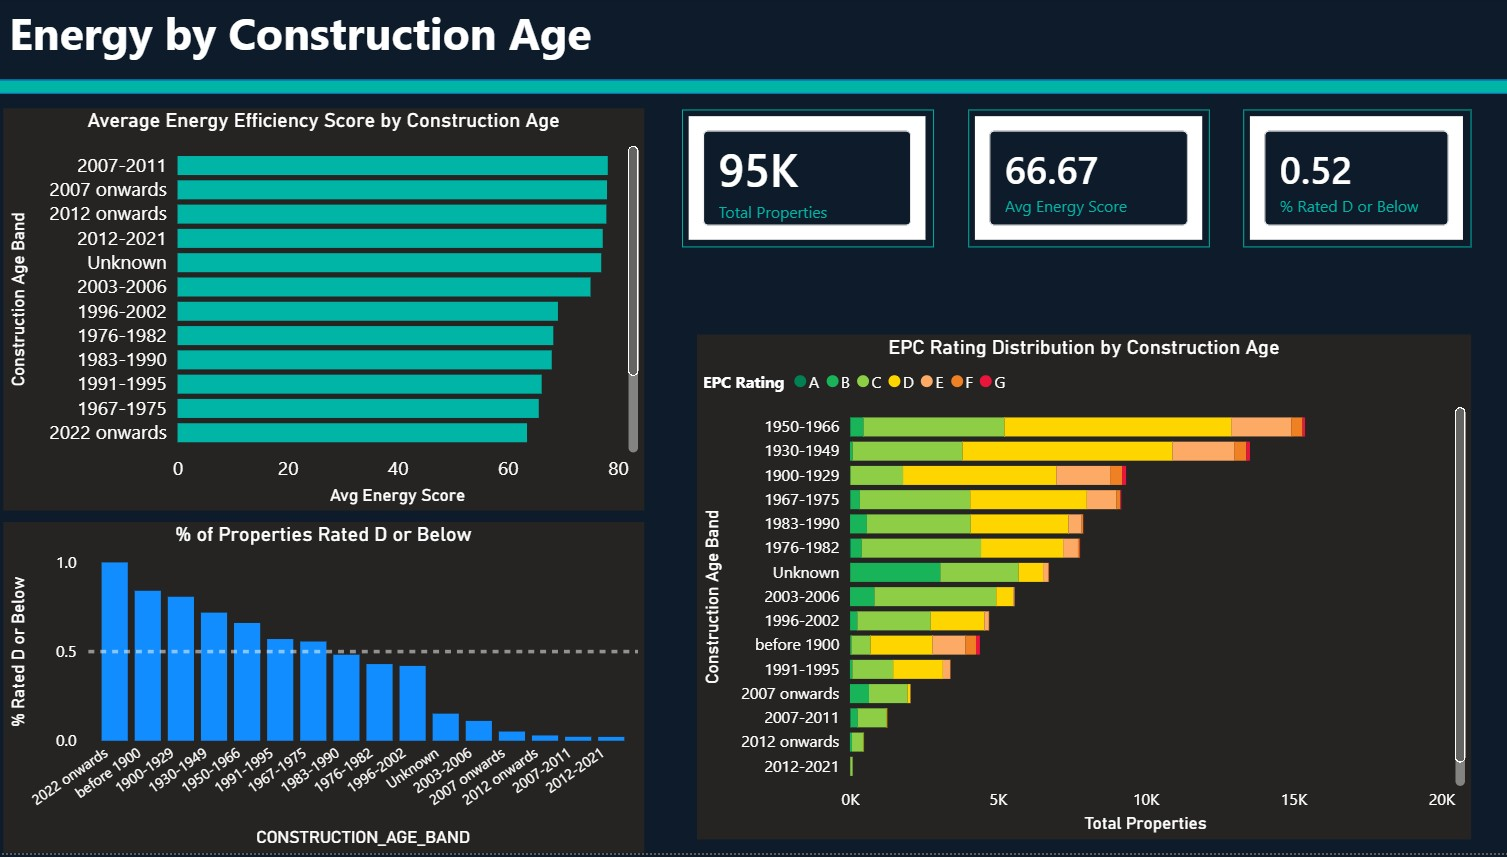

What the dashboard file says about the page in this screenshot:
{"tool":"powerbi","page":{"name":"Energy by Construction Age","canvas":[1280,720],"ordinal":4},"visuals":[{"type":"textbox","box":[9.5,0,1248,93.3],"z":0},{"type":"shape","box":[0,69,1280.5,12.2],"z":1000},{"type":"clusteredBarChart","title":" Average Energy Efficiency Score by Construction Age","fields":{"Category":["Dim_ConstructionAge.CONSTRUCTION_AGE_BAND"],"Y":["_Measures.Avg Energy Score"]},"box":[9.4,93.6,539.1,338.5],"z":2000},{"type":"barChart","title":"EPC Rating Distribution by Construction Age","fields":{"Category":["Dim_ConstructionAge.CONSTRUCTION_AGE_BAND"],"Y":["_Measures.Total Properties"],"Series":["Dim_EnergyRating.CURRENT_ENERGY_RATING"]},"box":[593,283.7,651.2,424.4],"z":3000},{"type":"clusteredColumnChart","title":"% of Properties Rated D or Below","fields":{"Category":["Dim_ConstructionAge.CONSTRUCTION_AGE_BAND"],"Y":["_Measures.% Rated D or Below"]},"box":[9,442,539,278],"z":4000},{"type":"cardVisual","fields":{"Data":["_Measures.Total Properties"]},"box":[580.2,94.2,211.6,116.3],"z":5000},{"type":"cardVisual","fields":{"Data":["_Measures.Avg Energy Score"]},"box":[820.9,94.2,203.5,116.3],"z":6000},{"type":"cardVisual","fields":{"Data":["_Measures.% Rated D or Below"]},"box":[1052.3,94.2,191.9,116.3],"z":7000}]}

Visuals, with their boxes in screenshot pixels (x1, y1, x2, y2), scaled from the page's 1280x720 canvas onto the 1507x857 screenshot:
textbox: 11/0/1481/111
shape: 0/82/1506/97
" Average Energy Efficiency Score by Construction Age" clusteredBarChart: 11/111/646/514
"EPC Rating Distribution by Construction Age" barChart: 698/338/1465/843
"% of Properties Rated D or Below" clusteredColumnChart: 11/526/645/856
cardVisual - _Measures.Total Properties: 683/112/932/251
cardVisual - _Measures.Avg Energy Score: 966/112/1206/251
cardVisual - _Measures.% Rated D or Below: 1239/112/1465/251
